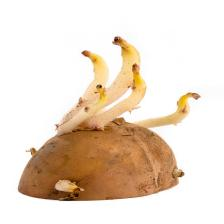Sprouted potato: (13, 31, 198, 203)
